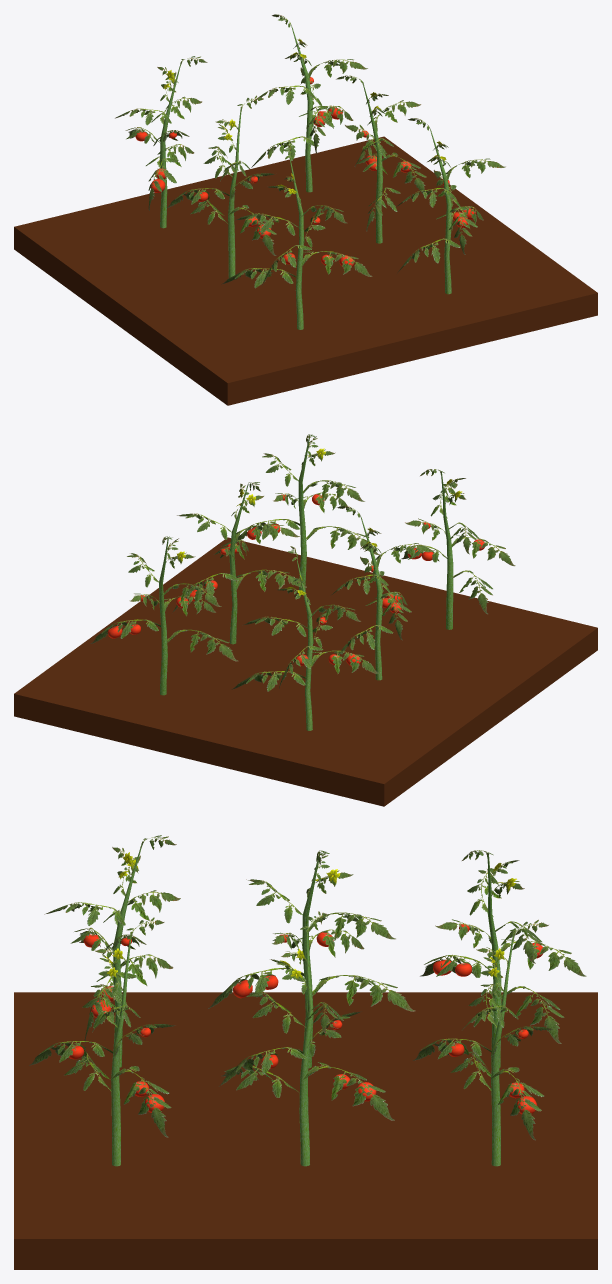
The model's file is farm plot.fbx.
3 views of the same model, one above another, from view 1: azimuth 30°, elevation 25°; view 2: azimuth 150°, elevation 25°; view 3: azimuth 270°, elevation 25° (orthographic). The views are drawn at different scales.
Visible parts, largest first — view 1: Cube, tomato-plant.004, tomato-plant.001, tomato-plant.003, tomato-plant.005, tomato-plant.002, tomato-plant; view 2: Cube, tomato-plant.003, tomato-plant.002, tomato-plant.005, tomato-plant.004, tomato-plant, tomato-plant.001; view 3: Cube, tomato-plant, tomato-plant.005, tomato-plant.001, tomato-plant.003, tomato-plant.002, tomato-plant.004.
Boxes of the visible parts, left/top/right/bottom form: Cube: left=14, top=136, right=597, bottom=405; tomato-plant.004: left=221, top=144, right=372, bottom=329; tomato-plant.001: left=167, top=95, right=276, bottom=277; tomato-plant.003: left=251, top=14, right=367, bottom=192; tomato-plant.005: left=396, top=118, right=505, bottom=294; tomato-plant.002: left=115, top=56, right=207, bottom=228; tomato-plant: left=336, top=75, right=427, bottom=243; Cube: left=14, top=537, right=597, bottom=806; tomato-plant.003: left=90, top=536, right=238, bottom=695; tomato-plant.002: left=231, top=546, right=378, bottom=730; tomato-plant.005: left=236, top=434, right=379, bottom=591; tomato-plant.004: left=401, top=469, right=515, bottom=629; tomato-plant: left=172, top=482, right=306, bottom=644; tomato-plant.001: left=330, top=506, right=434, bottom=680; Cube: left=14, top=992, right=597, bottom=1269; tomato-plant: left=219, top=911, right=394, bottom=1166; tomato-plant.005: left=29, top=917, right=175, bottom=1166; tomato-plant.001: left=208, top=850, right=415, bottom=1068; tomato-plant.003: left=413, top=919, right=553, bottom=1166; tomato-plant.002: left=420, top=850, right=586, bottom=1067; tomato-plant.004: left=44, top=835, right=180, bottom=1067.
Size of the model in its own units: 4000 by 1988 by 4000.
